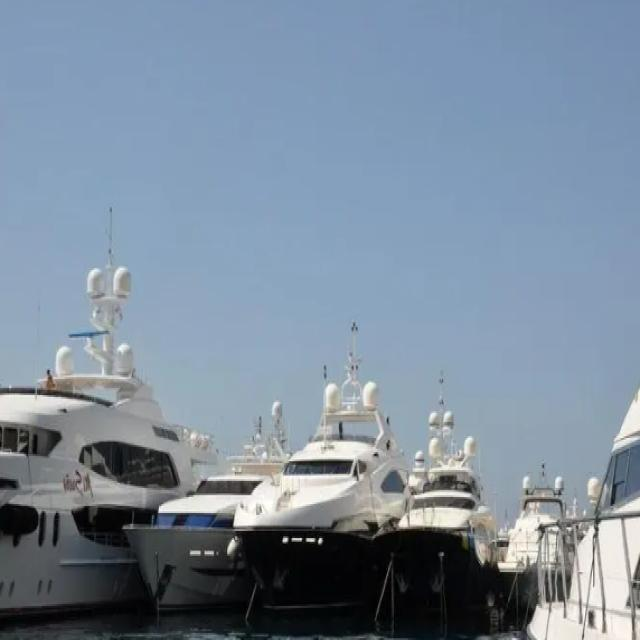houseboat: (0, 318, 217, 620), (238, 332, 403, 595), (128, 391, 292, 607), (383, 384, 490, 622), (497, 461, 579, 598)
